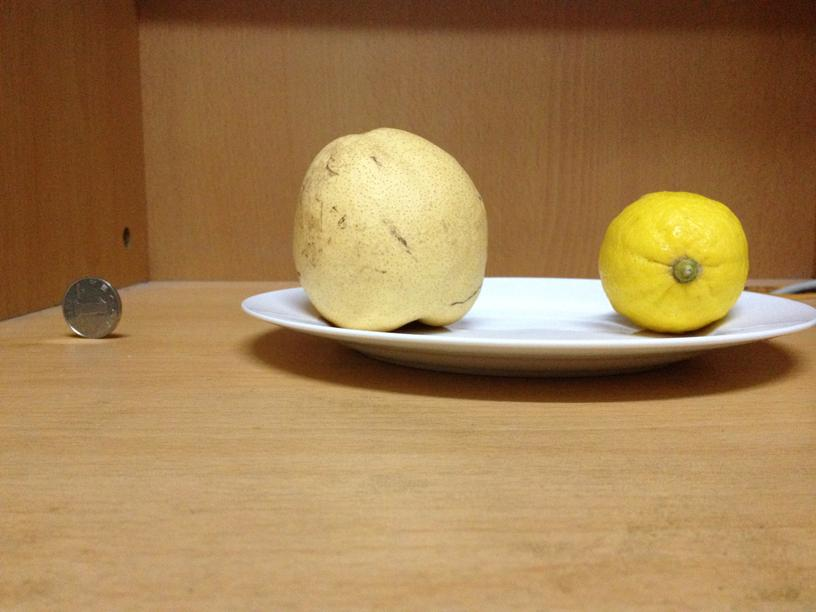coin: (61, 277, 122, 338)
lemon: (602, 193, 748, 329)
pear: (291, 129, 489, 328)
